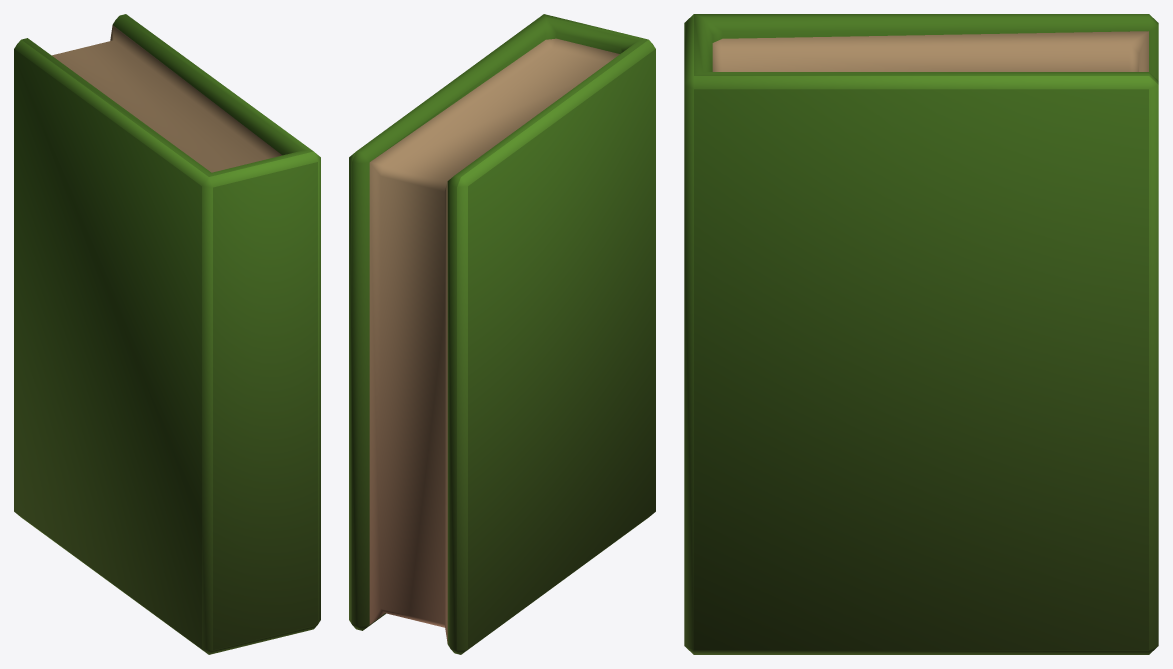
File: book1.fbx
The picture shows the model from 3 angles, left to right: view 1: azimuth 30°, elevation 25°; view 2: azimuth 150°, elevation 25°; view 3: azimuth 270°, elevation 25°; orthographic projection. The views are drawn at different scales.
Visible parts, largest first — view 1: book.001; view 2: book.001; view 3: book.001.
Boxes of the visible parts, x1,y1,x2,y2 form: book.001: [14, 14, 320, 654]; book.001: [349, 14, 655, 654]; book.001: [684, 14, 1158, 654].
Bounding box in the file's own units: 21.5 × 82.64 × 61.4.
